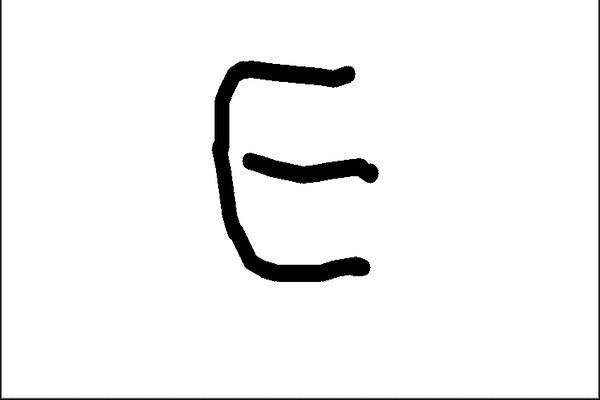E: (207, 53, 385, 286)
